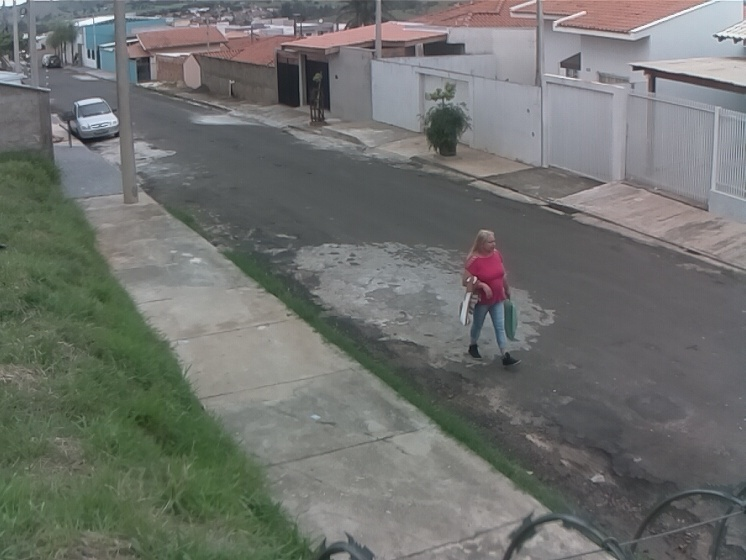person: (460, 229, 521, 371)
